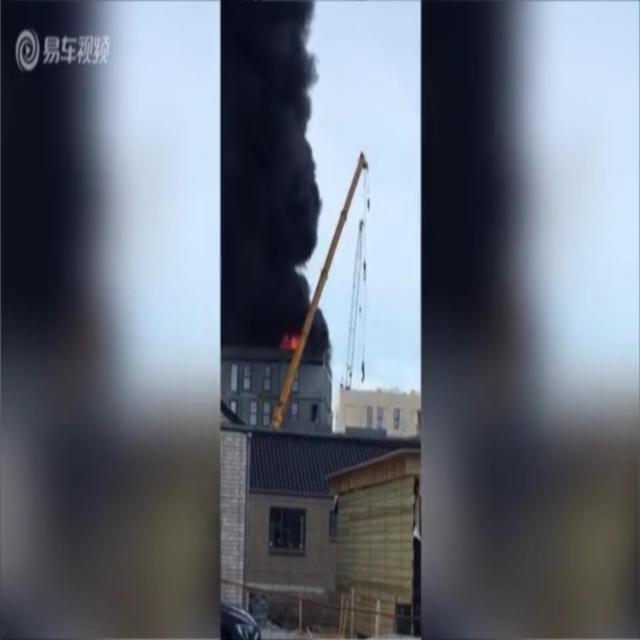fire: (281, 329, 303, 351)
smoke: (224, 0, 329, 346)
